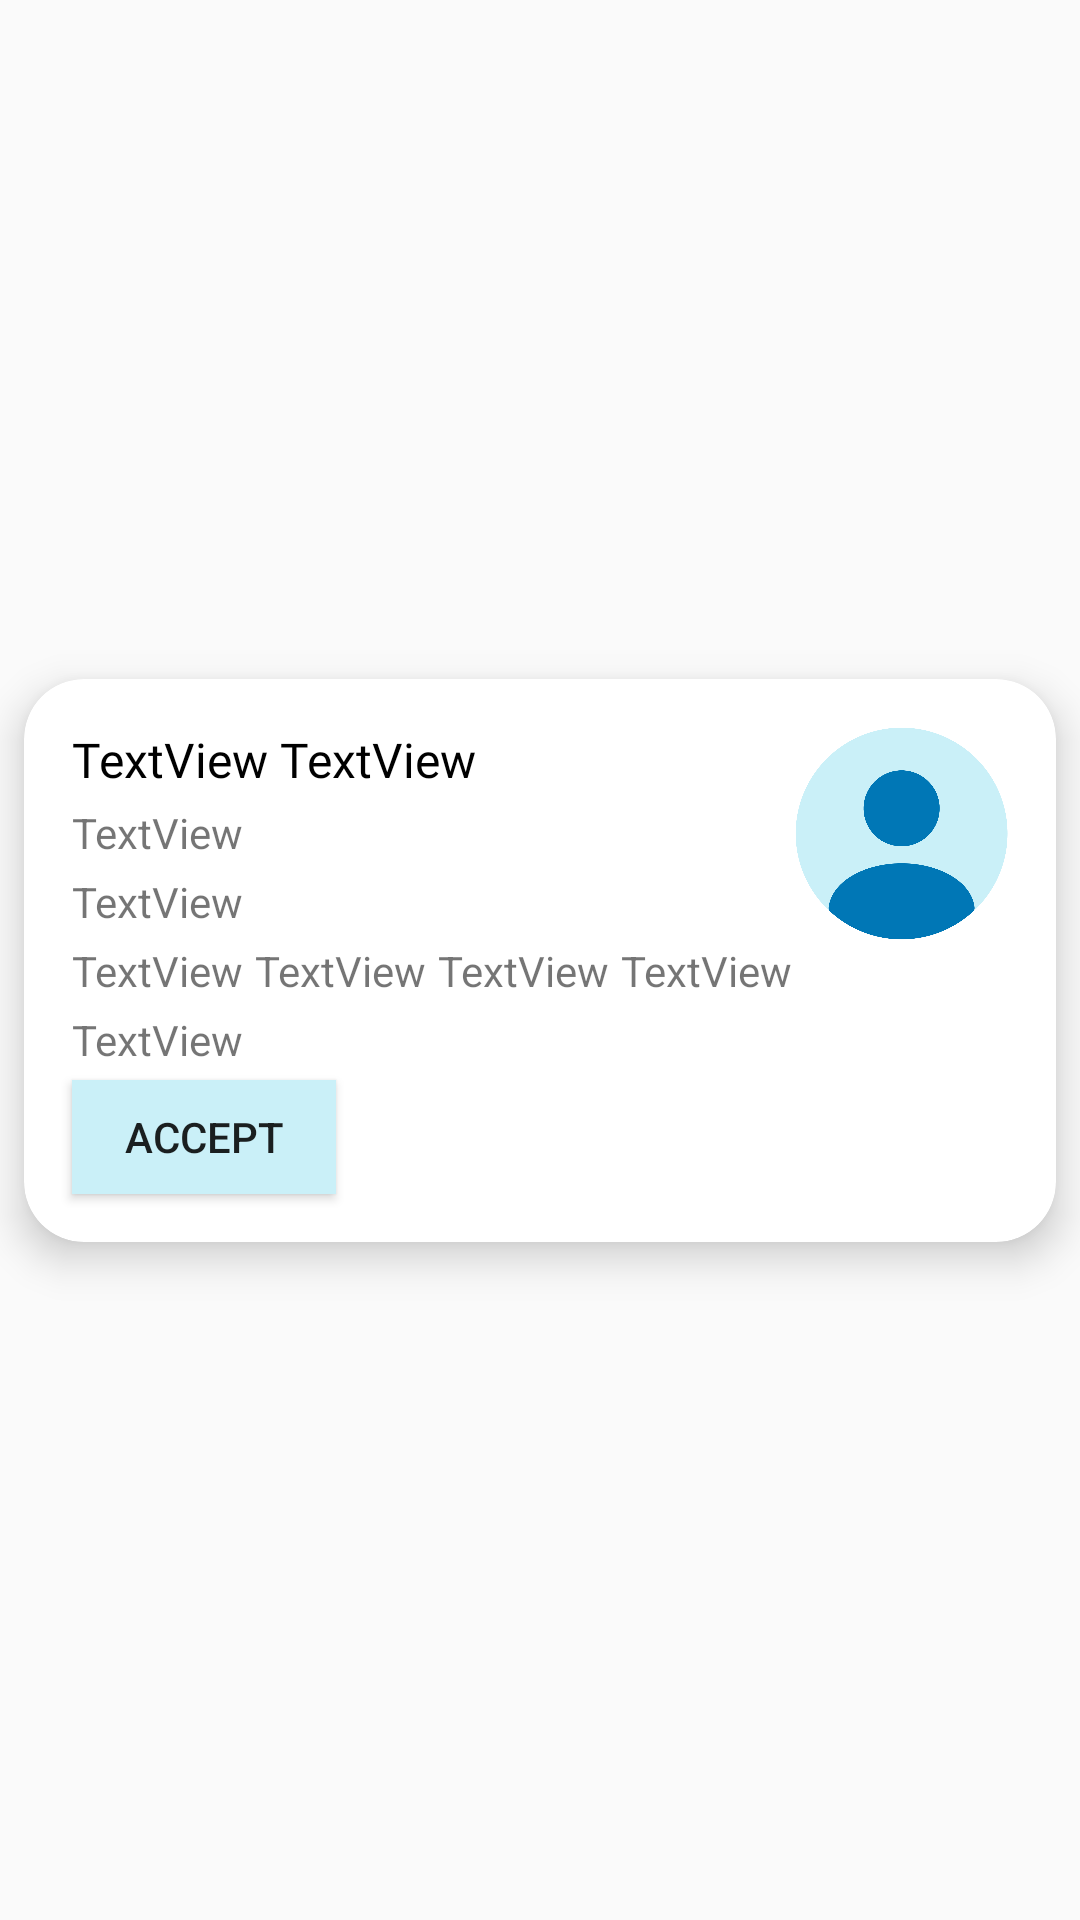

Named icons in this screenshot (1080x1920) and their centers, point (x, y):
profile pic: point (902, 833)
